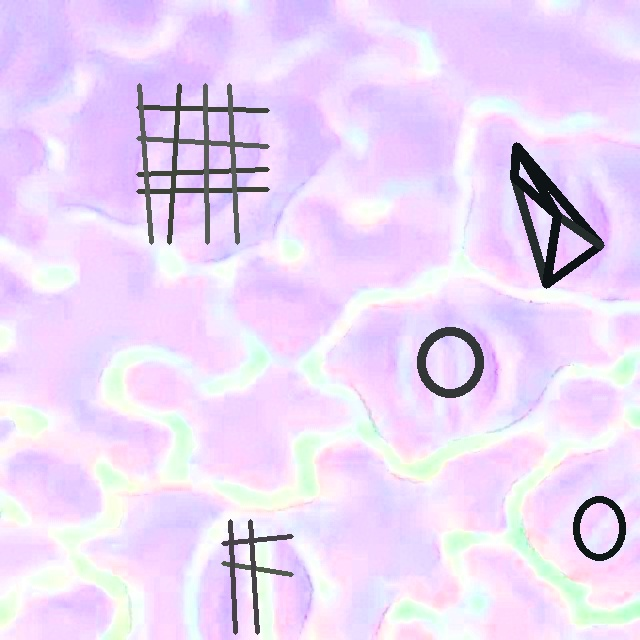close: (572, 495, 626, 560)
open: (136, 83, 269, 244), (510, 143, 604, 287), (221, 519, 293, 634), (416, 326, 485, 399)
